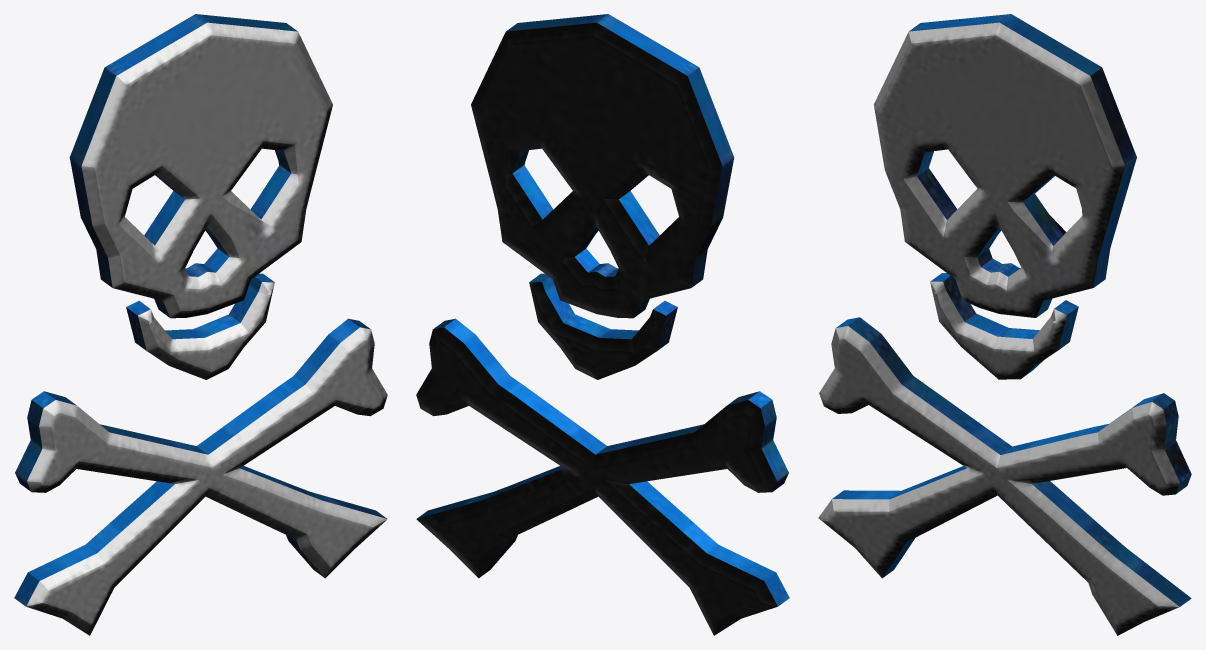
Rendered from dead1.obj.
3 views of the same model, side by side, from view 1: azimuth 30°, elevation 25°; view 2: azimuth 150°, elevation 25°; view 3: azimuth 330°, elevation 25° (orthographic).
Visible parts, largest first — view 1: Text003; view 2: Text003; view 3: Text003.
Boxes of the visible parts, bbox=[...] form: Text003: bbox=[14, 14, 387, 635]; Text003: bbox=[416, 14, 789, 635]; Text003: bbox=[818, 14, 1191, 635].
Size of the model in its own units: 17.72 by 27.36 by 1.62.
1 material, 1 textured.
